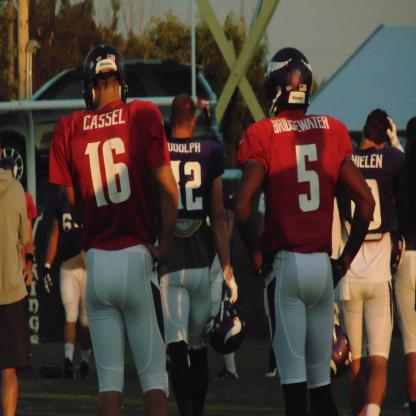Helmet: (264, 49, 315, 110), (84, 45, 130, 101)
